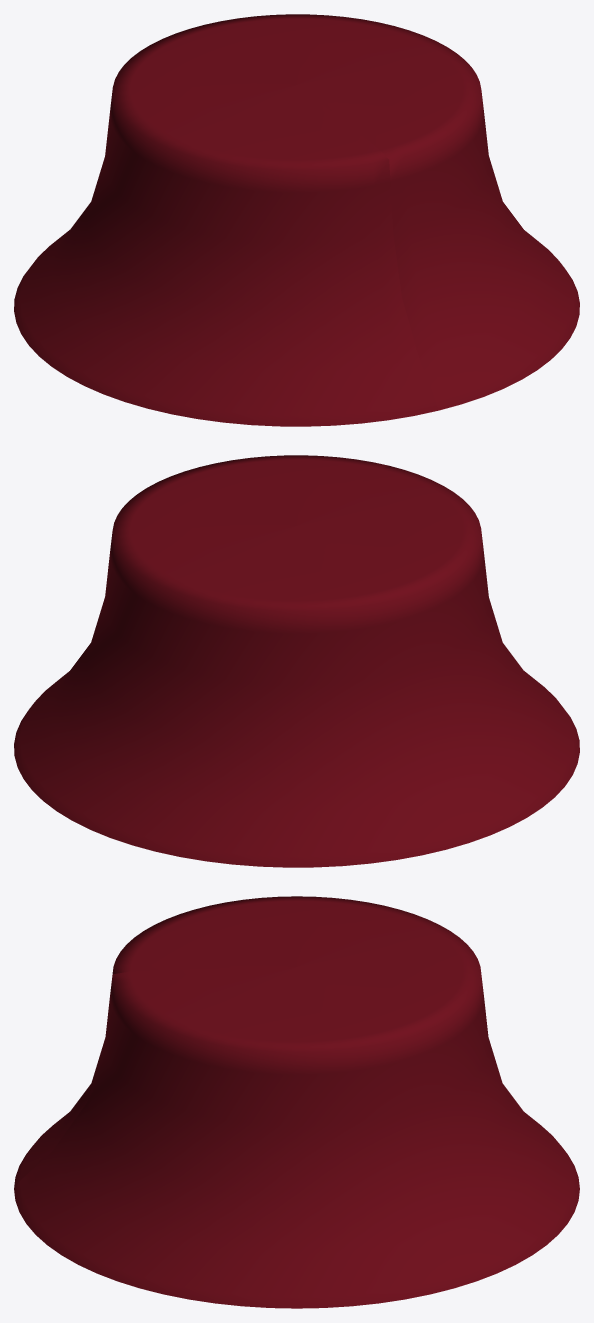
Rendered from tarot_table.glb.
The picture shows the model from 3 angles, top to bottom: view 1: azimuth 30°, elevation 25°; view 2: azimuth 150°, elevation 25°; view 3: azimuth 270°, elevation 25°; orthographic projection.
Visible parts, largest first — view 1: tarot_table; view 2: tarot_table; view 3: tarot_table.
Part boxes in pixels (left/top/right/bottom): tarot_table: left=14, top=14, right=579, bottom=426; tarot_table: left=14, top=455, right=579, bottom=867; tarot_table: left=14, top=896, right=579, bottom=1308.
Size of the model in its own units: 1.78 by 0.77 by 1.78.
